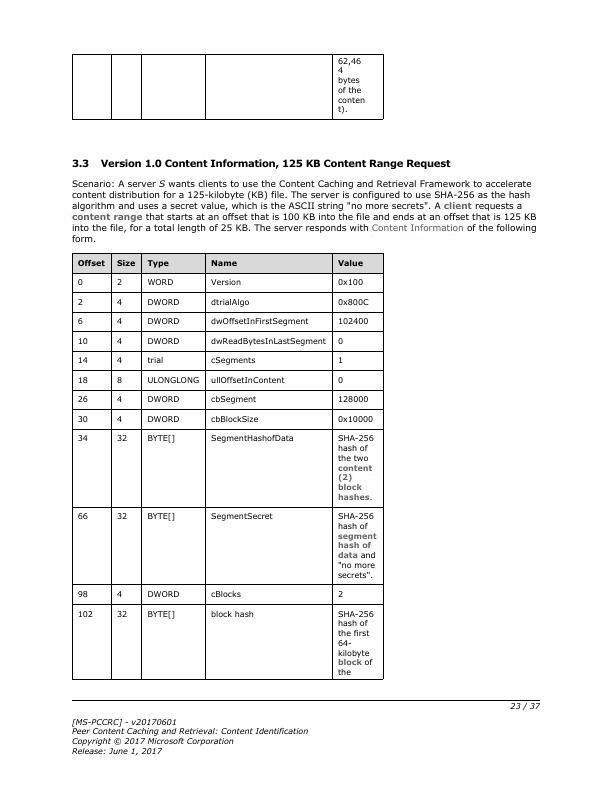table: (70, 251, 386, 681), (70, 52, 386, 122)
text: (70, 179, 539, 246), (68, 714, 308, 757), (68, 155, 455, 172)
